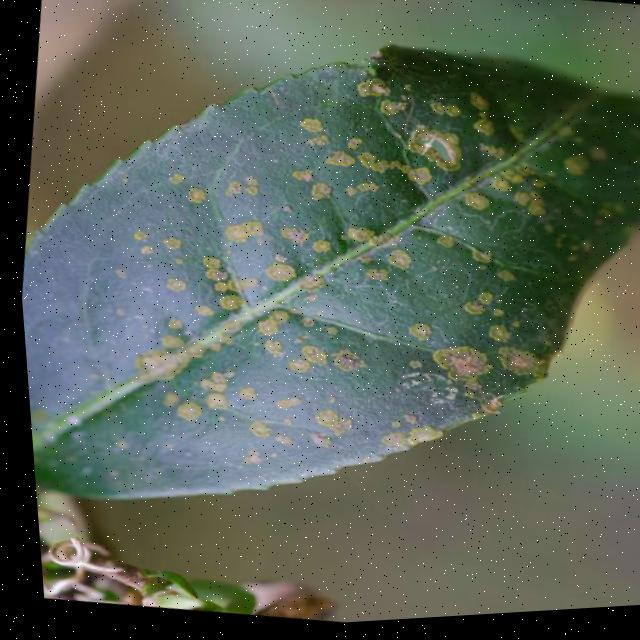Tea algae leaf spot: (65, 4, 640, 530)
